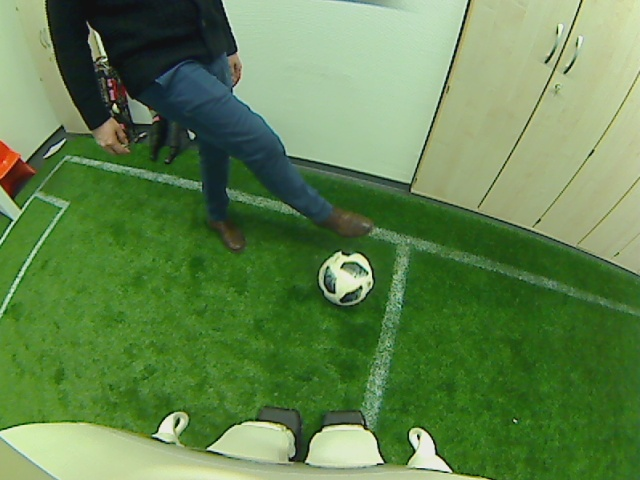ball: (316, 247, 374, 307)
